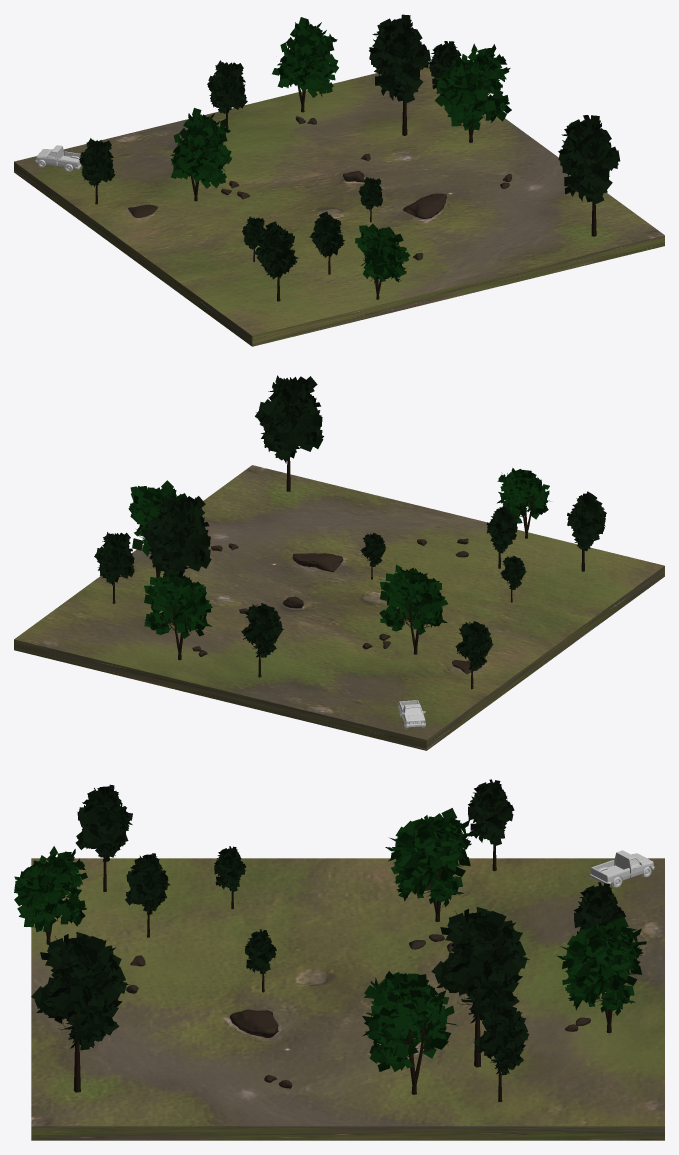
Rendered from Terrain.obj.
The picture shows the model from 3 angles, top to bottom: view 1: azimuth 30°, elevation 25°; view 2: azimuth 150°, elevation 25°; view 3: azimuth 270°, elevation 25°; orthographic projection. The views are drawn at different scales.
Visible parts, largest first — view 1: Cube, leaf003.010, leaf003.009, leaf003.004, leaf003.008, leaf003.012, leaf003.003, leaf003.007, leaf003.005, leaf003.001, leaf003.011, leaf003.006 (+4 smaller); view 2: Cube, leaf003.009, leaf003.004, leaf003.008, leaf003.012, leaf003.003, leaf003.010, leaf003.007, leaf003.006, leaf003.005, leaf003.001, leaf003.011 (+4 smaller); view 3: Cube, leaf003.009, leaf003.004, leaf003.010, leaf003.008, leaf003.012, leaf003.003, leaf003.007, leaf003.006, leaf003.001, leaf003.011, leaf003.005 (+5 smaller).
Boxes of the visible parts, left/top/right/bottom form: Cube: left=14, top=64, right=664, bottom=346; leaf003.010: left=434, top=43, right=511, bottom=130; leaf003.009: left=558, top=115, right=620, bottom=204; leaf003.004: left=369, top=14, right=430, bottom=103; leaf003.008: left=272, top=17, right=338, bottom=97; leaf003.012: left=170, top=108, right=232, bottom=188; leaf003.003: left=355, top=223, right=410, bottom=284; leaf003.007: left=253, top=221, right=298, bottom=279; leaf003.005: left=207, top=60, right=247, bottom=113; leaf003.001: left=79, top=138, right=115, bottom=187; leaf003.011: left=309, top=211, right=345, bottom=257; leaf003.006: left=429, top=41, right=461, bottom=89; Cube: left=14, top=465, right=664, bottom=750; leaf003.009: left=255, top=375, right=323, bottom=463; leaf003.004: left=143, top=495, right=211, bottom=577; leaf003.008: left=144, top=571, right=212, bottom=638; leaf003.012: left=379, top=564, right=447, bottom=634; leaf003.003: left=497, top=468, right=550, bottom=523; leaf003.010: left=128, top=480, right=187, bottom=559; leaf003.007: left=567, top=491, right=606, bottom=551; leaf003.006: left=94, top=532, right=134, bottom=585; leaf003.005: left=241, top=603, right=284, bottom=657; leaf003.001: left=455, top=621, right=493, bottom=670; leaf003.011: left=486, top=505, right=517, bottom=553; Cube: left=31, top=858, right=664, bottom=1140; leaf003.009: left=31, top=932, right=129, bottom=1050; leaf003.004: left=431, top=907, right=529, bottom=1023; leaf003.010: left=362, top=971, right=457, bottom=1071; leaf003.008: left=557, top=916, right=646, bottom=1015; leaf003.012: left=385, top=808, right=475, bottom=907; leaf003.003: left=14, top=846, right=87, bottom=932; leaf003.007: left=75, top=784, right=132, bottom=861; leaf003.006: left=474, top=1003, right=529, bottom=1075; leaf003.001: left=468, top=779, right=514, bottom=846; leaf003.011: left=125, top=853, right=170, bottom=914; leaf003.005: left=574, top=882, right=625, bottom=933.
Size of the model in its own units: 40 by 11.82 by 41.1.
